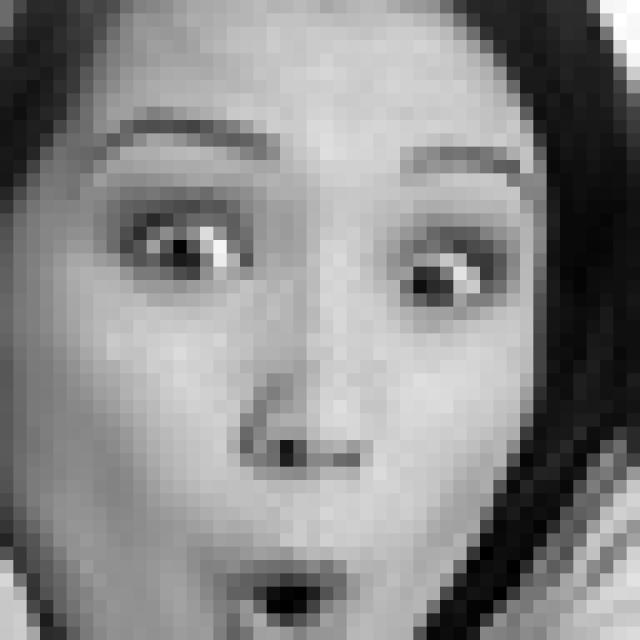surprise: (61, 113, 538, 640)
